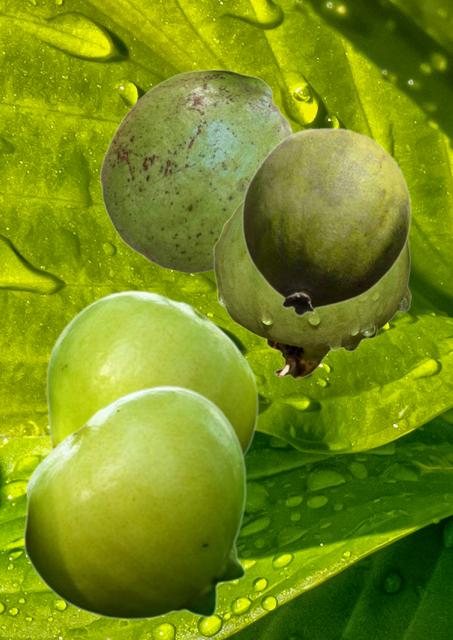guava: (22, 384, 246, 619), (99, 69, 293, 272), (44, 290, 258, 456), (213, 201, 410, 378), (241, 127, 411, 315)
